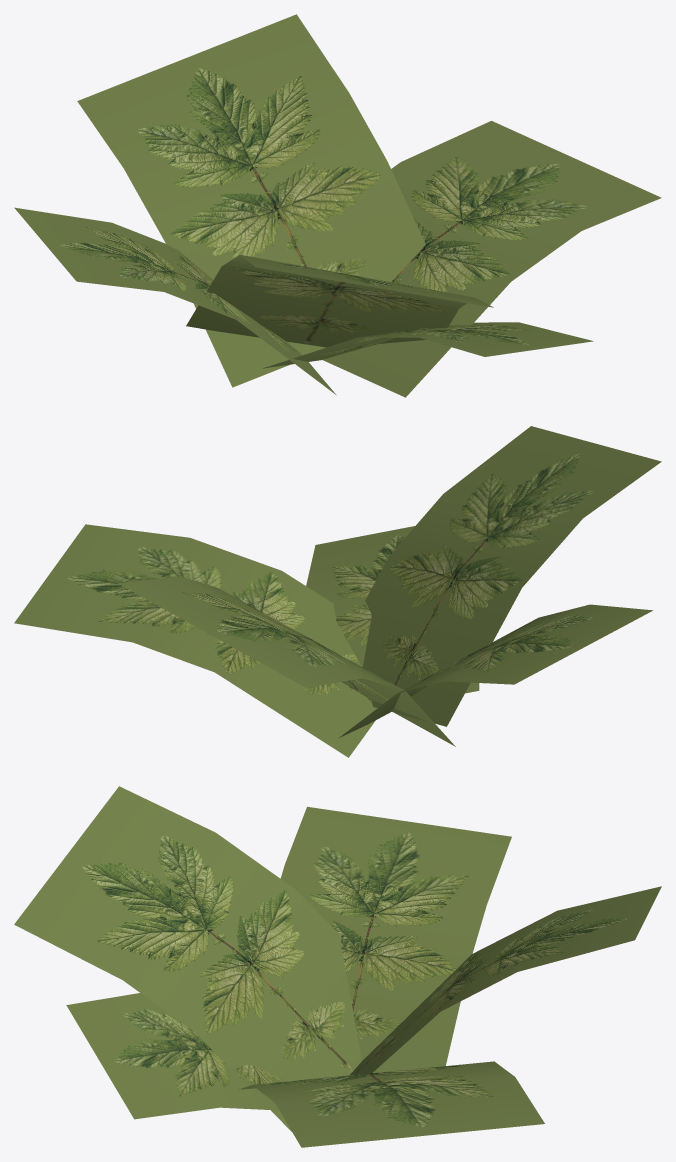
File: grass_mesh_03.fbx
3 views of the same model, one above another, from view 1: azimuth 30°, elevation 25°; view 2: azimuth 150°, elevation 25°; view 3: azimuth 270°, elevation 25° (orthographic). The views are drawn at different scales.
Visible parts, largest first — view 1: Polygon; view 2: Polygon; view 3: Polygon.
Boxes of the visible parts, <box> form: Polygon: <box>14,14,661,397</box>; Polygon: <box>14,426,661,757</box>; Polygon: <box>14,786,661,1147</box>.
Bounding box in the file's own units: 126 × 48.68 × 121.
1 material, 1 textured.
